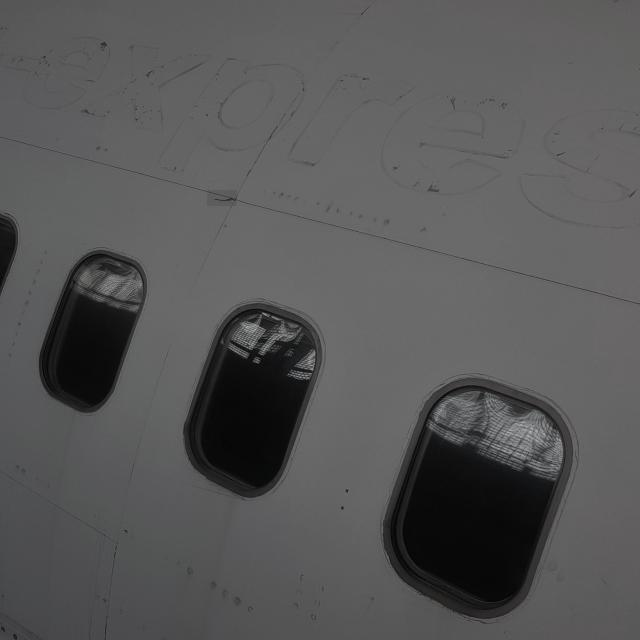crack: (208, 192, 238, 208)
